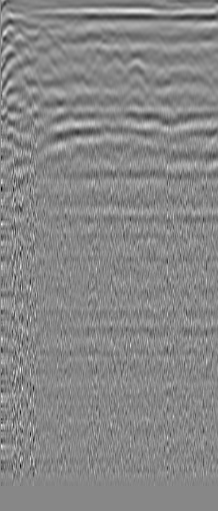오수: (33, 18, 60, 49)
우수: (175, 25, 195, 45)
